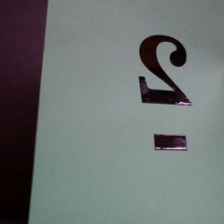green2: (130, 33, 203, 156)
